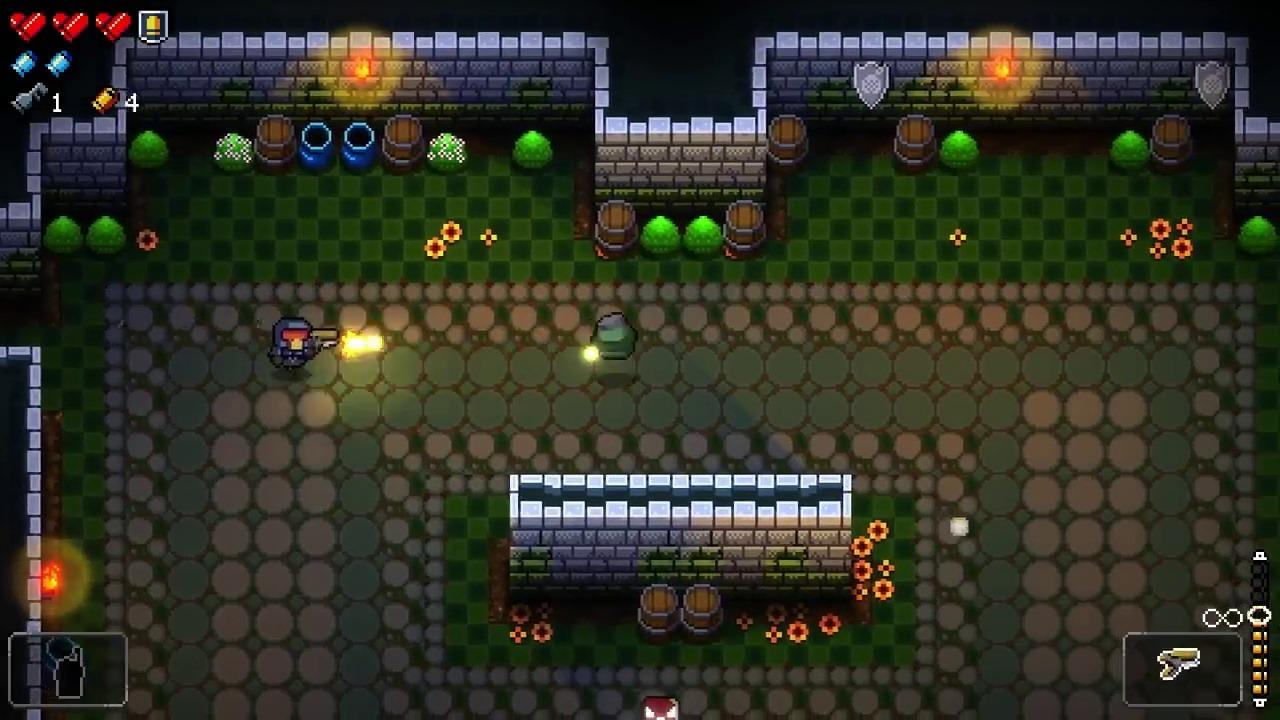bookllet_r: (643, 695, 679, 720)
pinhead: (591, 309, 641, 364)
player: (272, 317, 316, 372)
wall: (509, 473, 853, 608)
